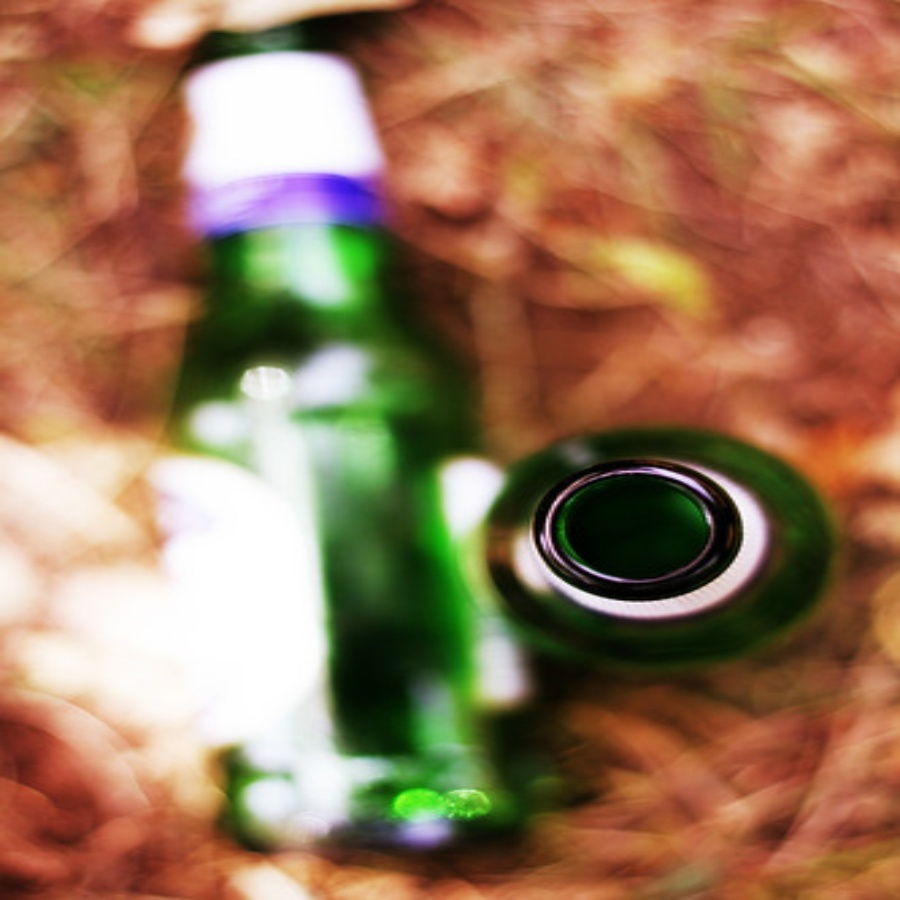beer: (185, 36, 497, 839)
